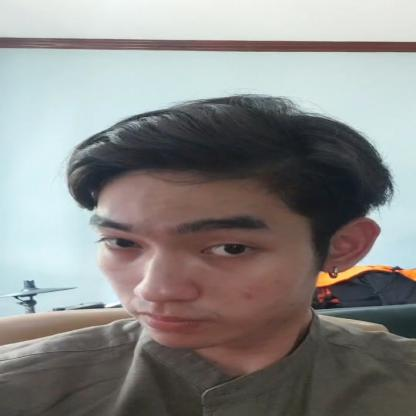Palm: (51, 92, 403, 354)
